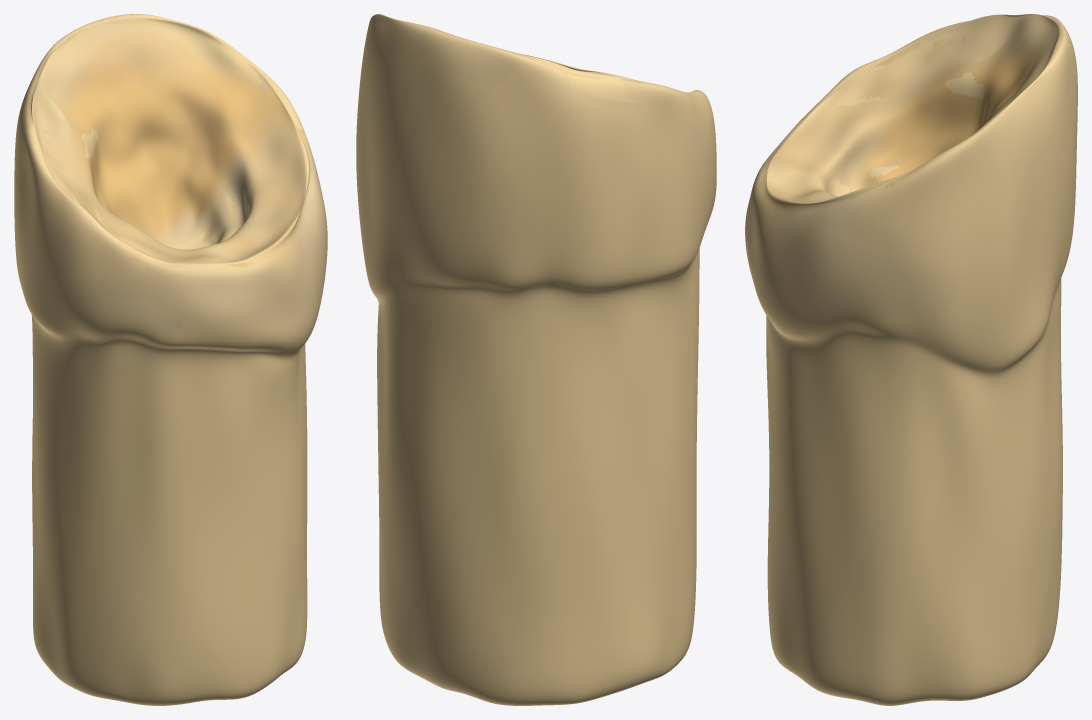
The model's file is candle_export_toUnity.fbx.
3 views of the same model, side by side, from view 1: azimuth 30°, elevation 25°; view 2: azimuth 150°, elevation 25°; view 3: azimuth 270°, elevation 25° (orthographic). The views are drawn at different scales.
Visible parts, largest first — view 1: Cylinder; view 2: Cylinder; view 3: Cylinder.
Boxes of the visible parts, left/top/right/bottom form: Cylinder: left=14, top=14, right=327, bottom=705; Cylinder: left=356, top=14, right=716, bottom=705; Cylinder: left=745, top=14, right=1077, bottom=705.
Bounding box in the file's own units: 0.2184 × 0.457 × 0.2209.
Materials: 1 (1 with a texture image).
